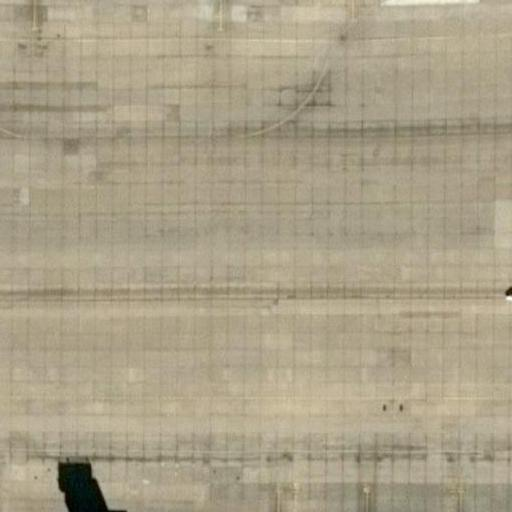Aircraft: (503, 270, 512, 321)
